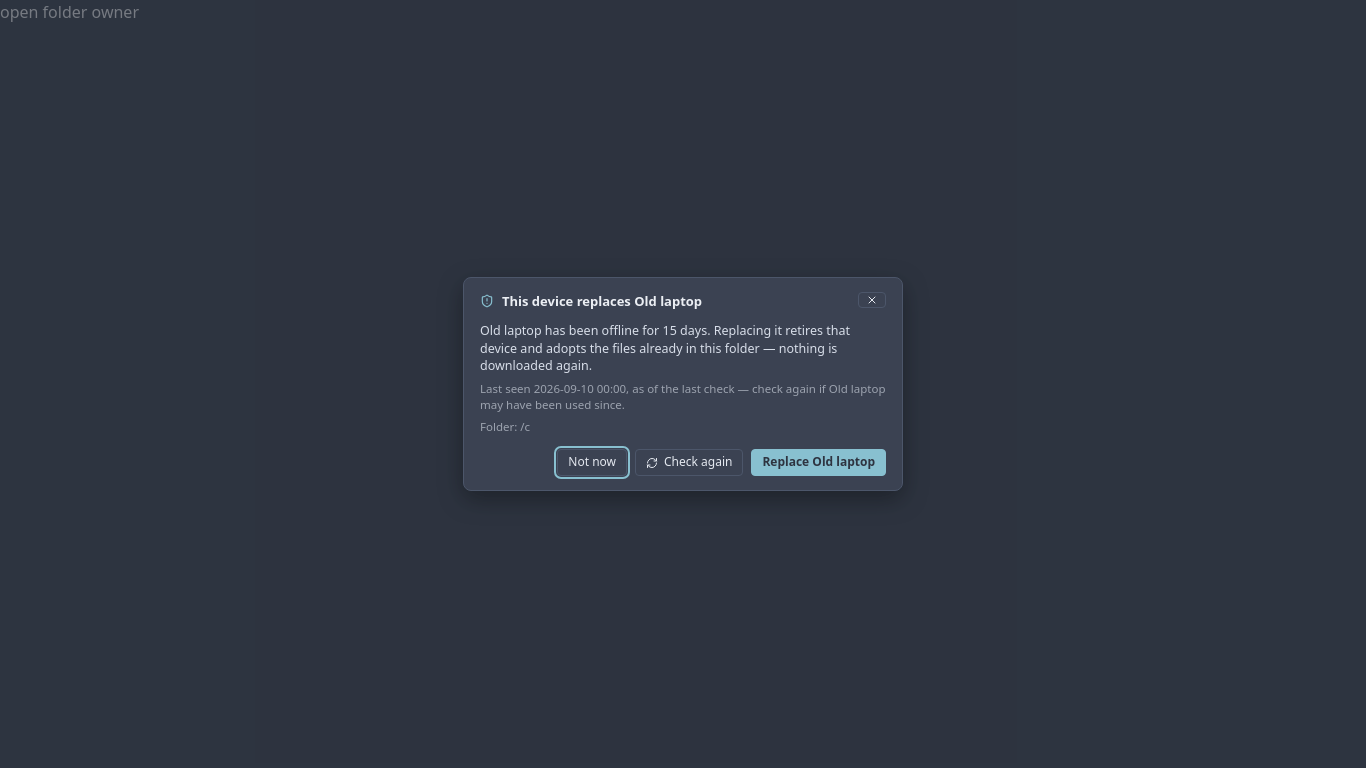
Test: DeviceReplaceDialog — Check again › a check the hub could not answer is a warning and keeps what was shown
The width and height of the screenshot is (1366, 768).
Check: the text "This device replaces Old laptop" is shown, box [480, 292, 702, 310]
Click the button "Check again" at {"x": 689, "y": 462}, box [635, 449, 743, 476]
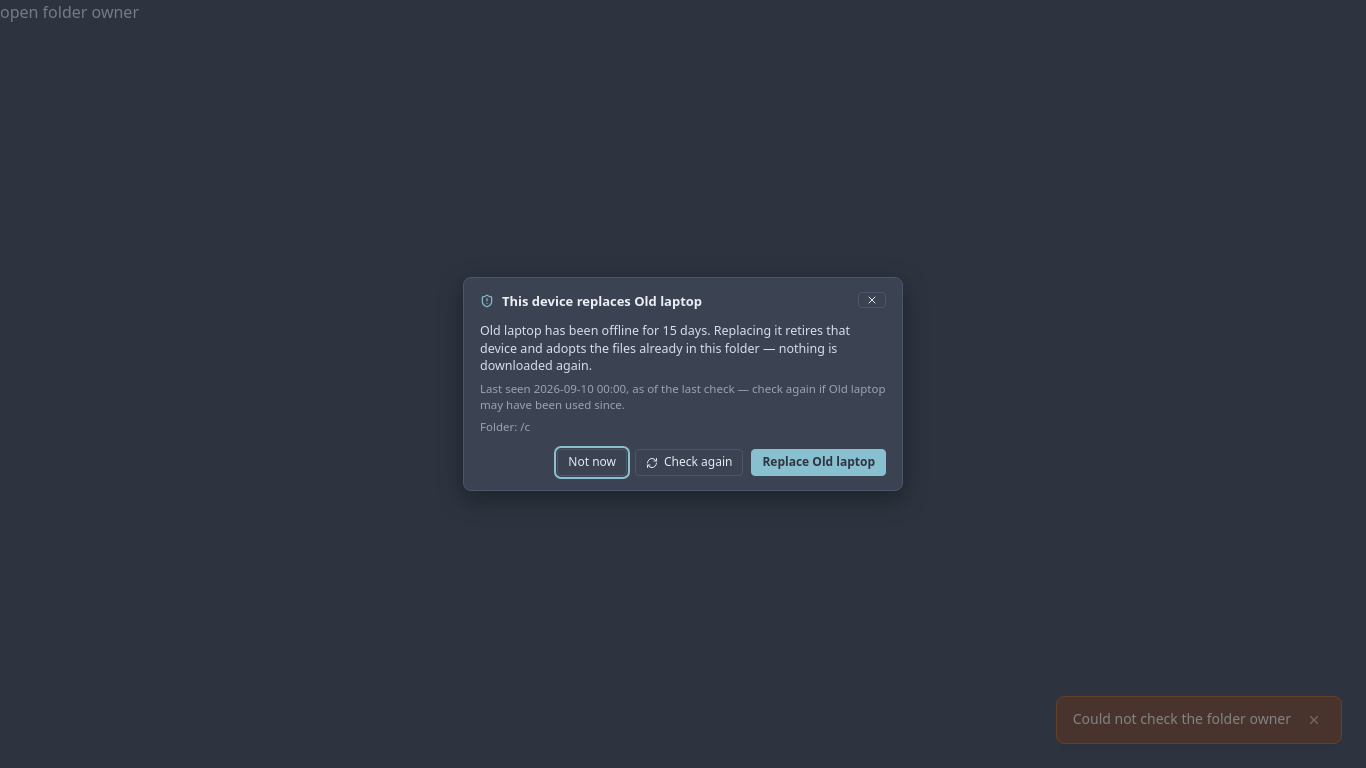
Check: the text "This device replaces Old laptop" is shown, box [480, 292, 702, 310]
Check: the message reads "Could not check the folder owner", box [1073, 709, 1291, 728]
